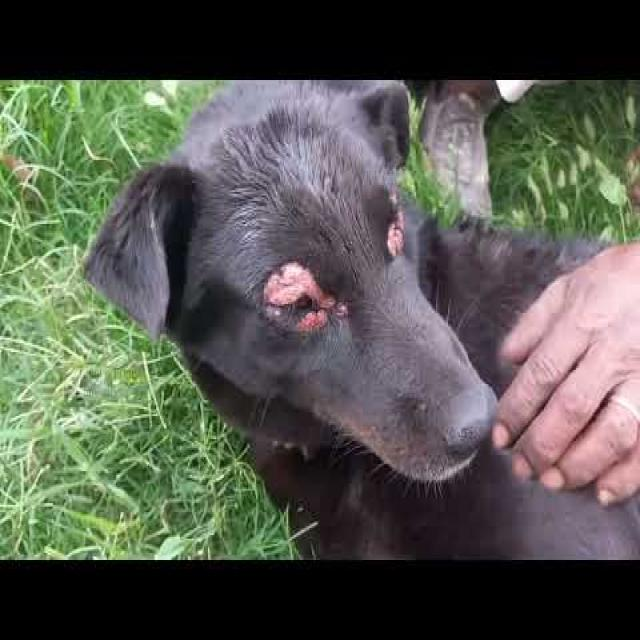fungal infection: (258, 260, 350, 336), (379, 188, 410, 264)
